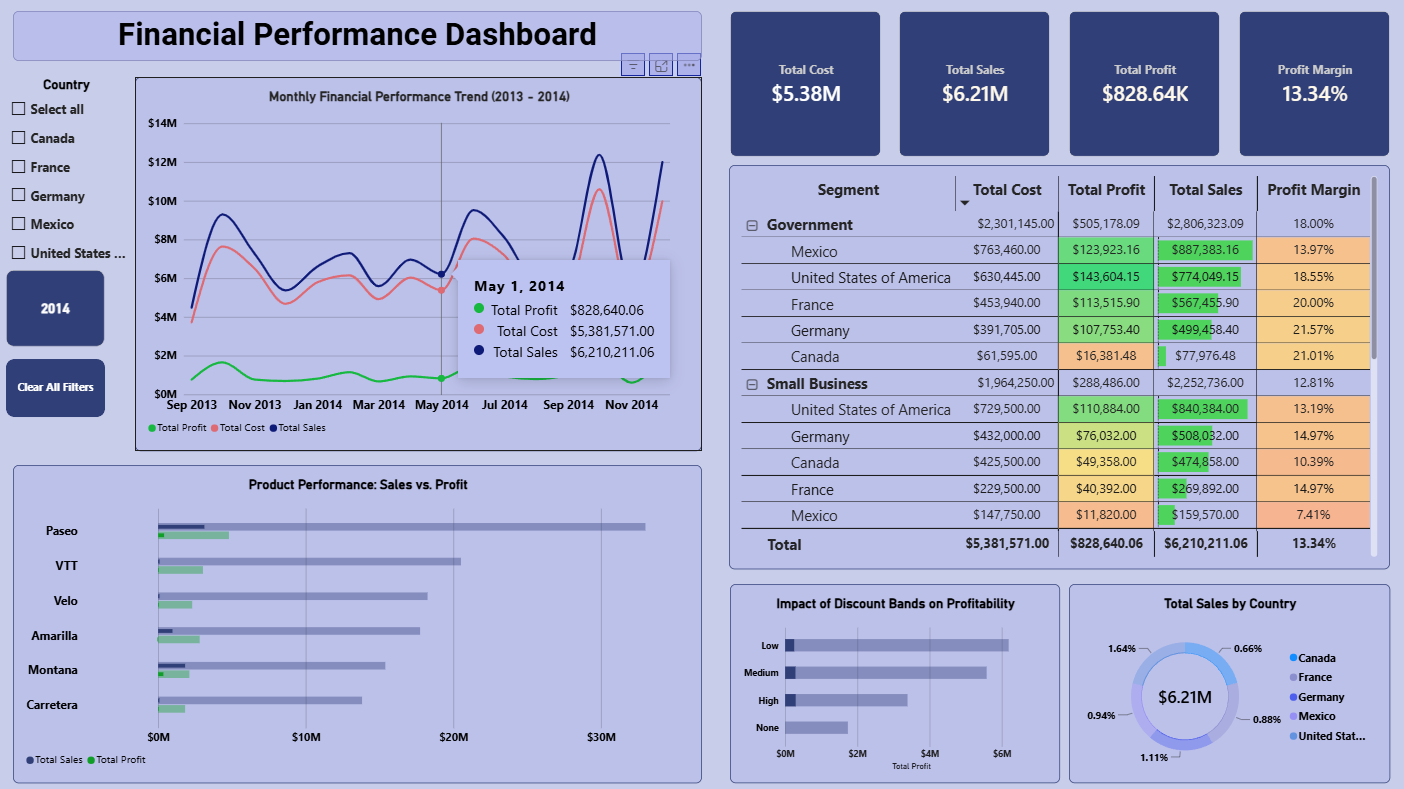

Layout of this report page (visuals, bound fields, positions):
{"tool":"powerbi","page":{"name":"Page 1","canvas":[1920,1080],"ordinal":0},"visuals":[{"type":"cardVisual","fields":{"Data":["financials.Total Cost"]},"box":[998.4,17.7,205.4,198.6],"z":0},{"type":"cardVisual","fields":{"Data":["financials.Total Sales"]},"box":[1228.3,17.7,205.4,198.6],"z":1000},{"type":"cardVisual","fields":{"Data":["financials.Total Profit"]},"box":[1459.5,17.7,205.4,198.6],"z":2000},{"type":"cardVisual","fields":{"Data":["financials.Profit Margin"]},"box":[1690.7,17.7,205.4,198.6],"z":3000},{"type":"lineChart","title":"Monthly Financial Performance Trend (2013 - 2014)","fields":{"Category":["Dim_Date.Year Month"],"Y":["financials.Total Profit","financials.Total Cost","financials.Total Sales"]},"box":[189.1,107.5,771.2,508.7],"z":4000},{"type":"advancedSlicerVisual","fields":{"Values":["Dim_Date.Year"]},"box":[13.6,370,134.7,104.7],"z":5000},{"type":"pivotTable","fields":{"Rows":["financials.Segment","financials.Country"],"Values":["financials.Total Cost","financials.Total Profit","financials.Total Sales","financials.Profit Margin"]},"box":[997,227.2,899.1,549.5],"z":6000},{"type":"textbox","box":[23.1,17.7,937.2,68],"z":7000},{"type":"slicer","title":"Country","fields":{"Values":["financials.Country"]},"box":[13.6,107.5,164.6,284.3],"z":8000},{"type":"clusteredBarChart","title":"Product Performance: Sales vs. Profit","fields":{"Category":["financials.Product"],"Y":["financials.Total Sales","financials.Total Profit"]},"box":[23.1,635.2,937.2,432.5],"z":9000},{"type":"clusteredBarChart","title":"Impact of Discount Bands on Profitability","fields":{"Category":["financials.Discount Band"],"Y":["financials.Total Profit"]},"box":[998.4,797.1,448.9,270.7],"z":10000},{"type":"actionButton","box":[13.6,491,134.7,78.9],"z":11000},{"type":"donutChart","fields":{"Y":["financials.Total Sales"],"Category":["financials.Country"]},"box":[1459.5,797.1,436.6,270.7],"z":12000}]}

Visuals, with their boxes in screenshot pixels (x1, y1, x2, y2), scaled from the page's 1920x1080 canvas onto the 1404x789 screenshot:
cardVisual - financials.Total Cost: box=[730, 13, 880, 158]
cardVisual - financials.Total Sales: box=[898, 13, 1048, 158]
cardVisual - financials.Total Profit: box=[1067, 13, 1217, 158]
cardVisual - financials.Profit Margin: box=[1236, 13, 1387, 158]
"Monthly Financial Performance Trend (2013 - 2014)" lineChart: box=[138, 79, 702, 450]
advancedSlicerVisual - Dim_Date.Year: box=[10, 270, 108, 347]
pivotTable - financials.Segment x financials.Country: box=[729, 166, 1387, 567]
textbox: box=[17, 13, 702, 63]
"Country" slicer: box=[10, 79, 130, 286]
"Product Performance: Sales vs. Profit" clusteredBarChart: box=[17, 464, 702, 780]
"Impact of Discount Bands on Profitability" clusteredBarChart: box=[730, 582, 1058, 780]
actionButton: box=[10, 359, 108, 416]
donutChart - financials.Total Sales x financials.Country: box=[1067, 582, 1387, 780]
